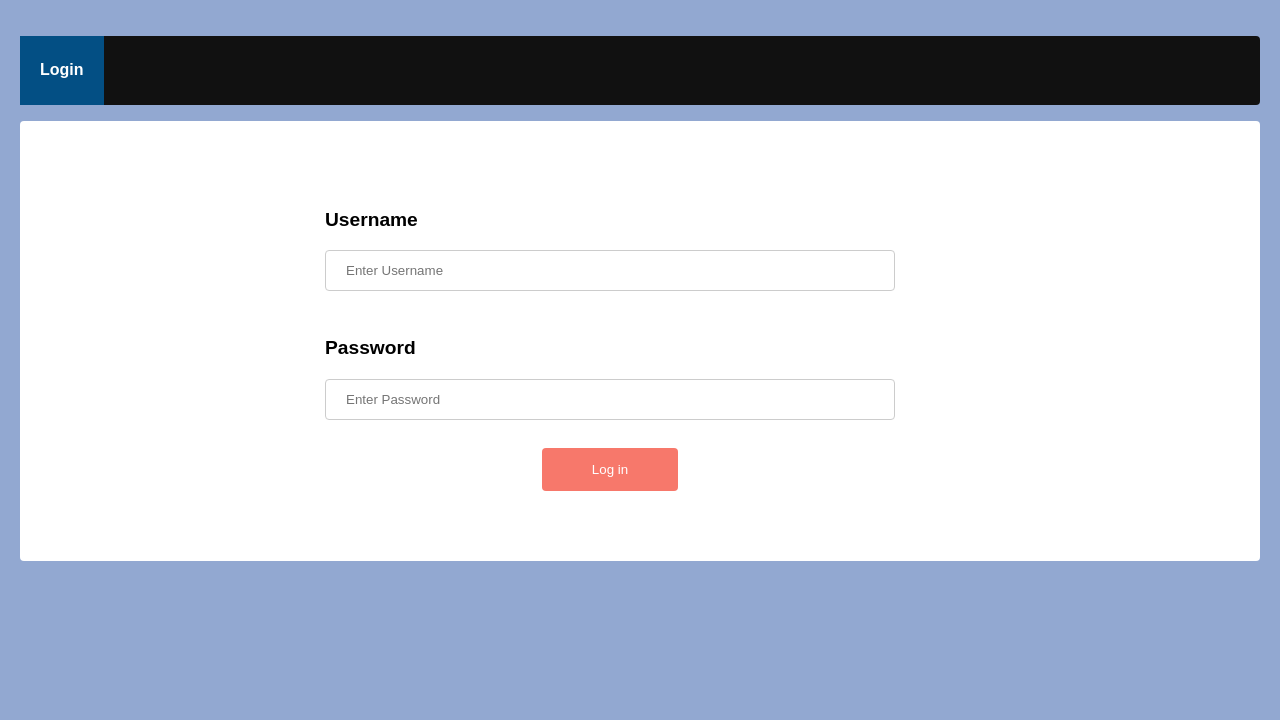
Test: Kepler Colony Tests › can go to Pioneer page
In the field with test id "username": (610, 271) [325, 250, 895, 291], type "username"
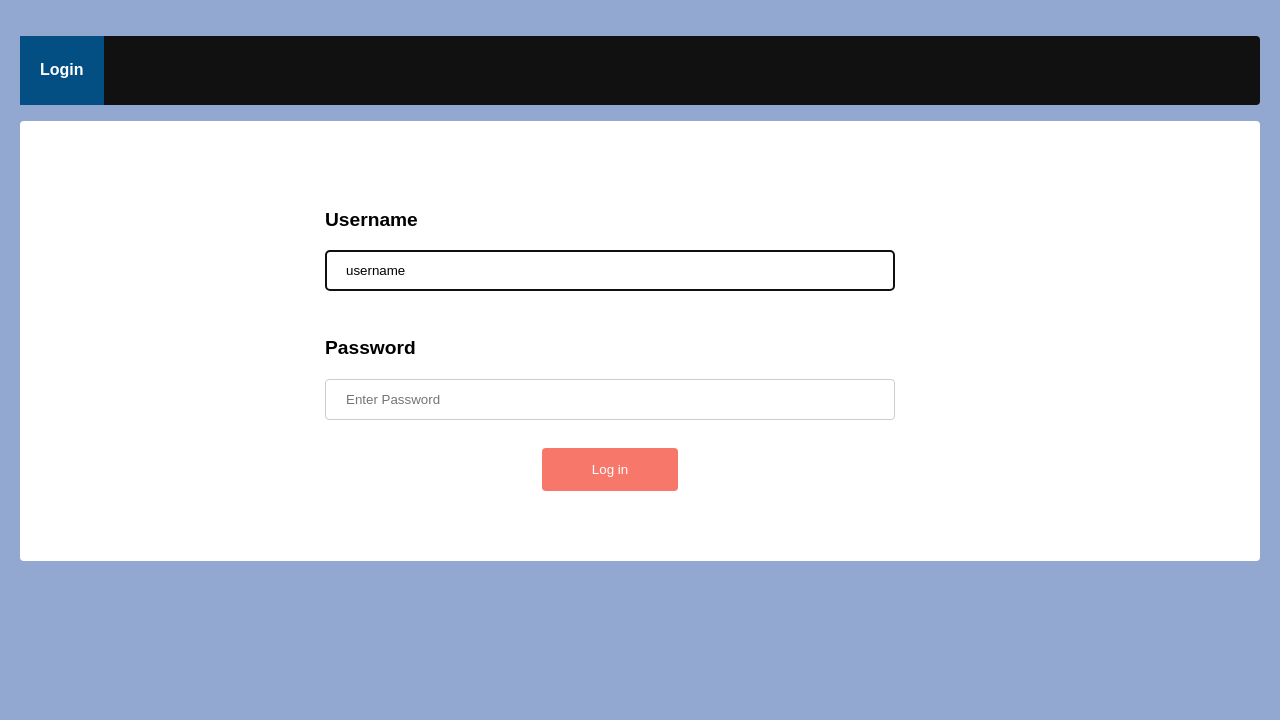
In the password field with test id "password": (610, 400) [325, 379, 895, 420], type "password"
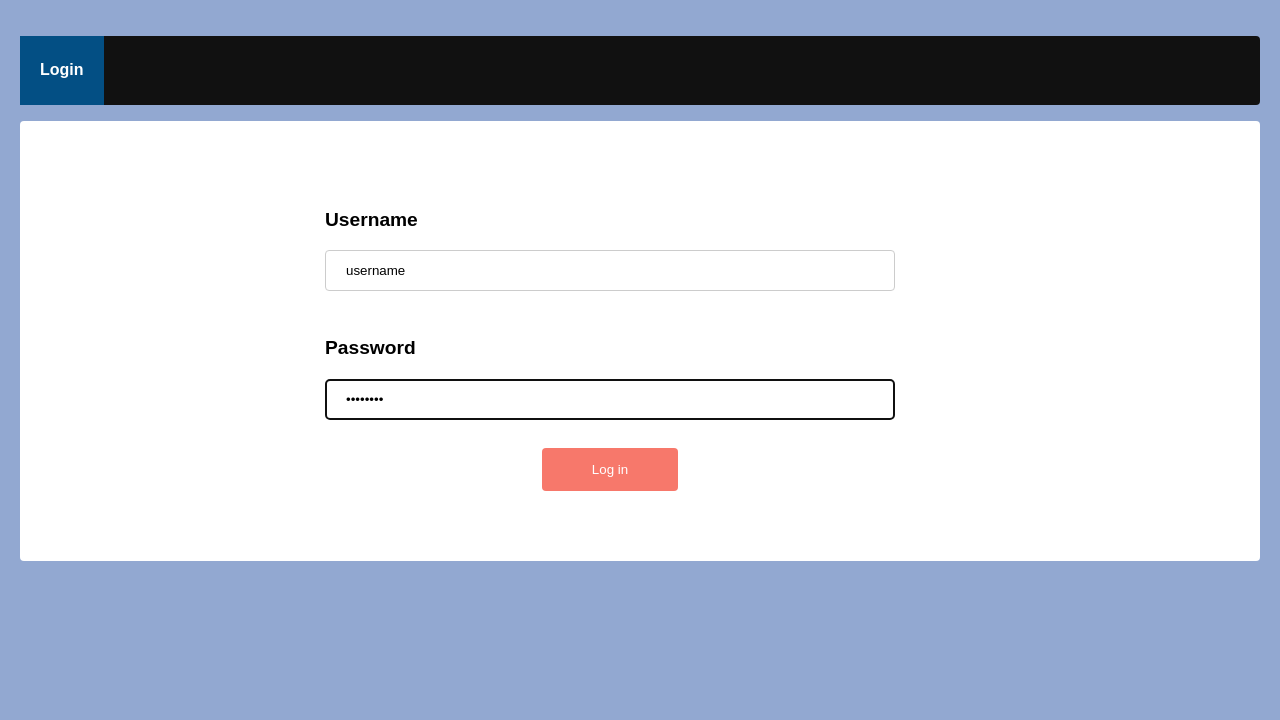
Click the button with class "login-button": (610, 470) [542, 448, 678, 491]
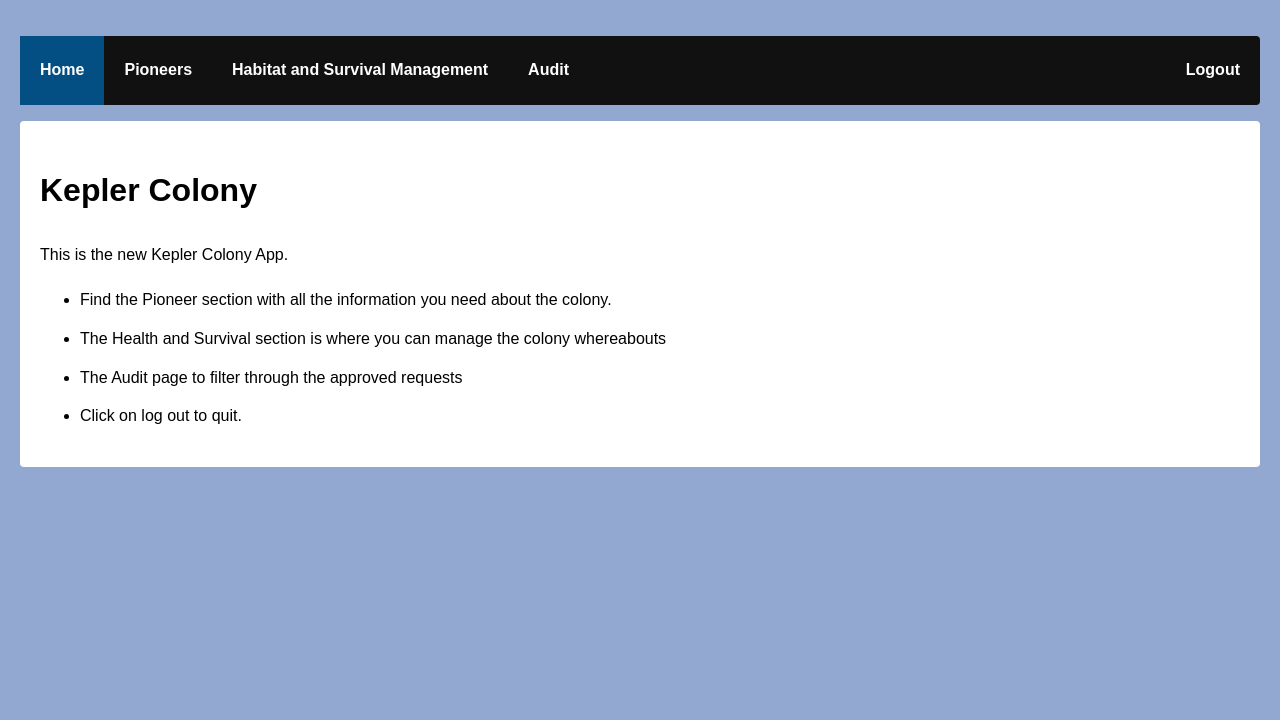
Click the link with aria-label "Pioneers": (159, 70) [125, 61, 193, 78]
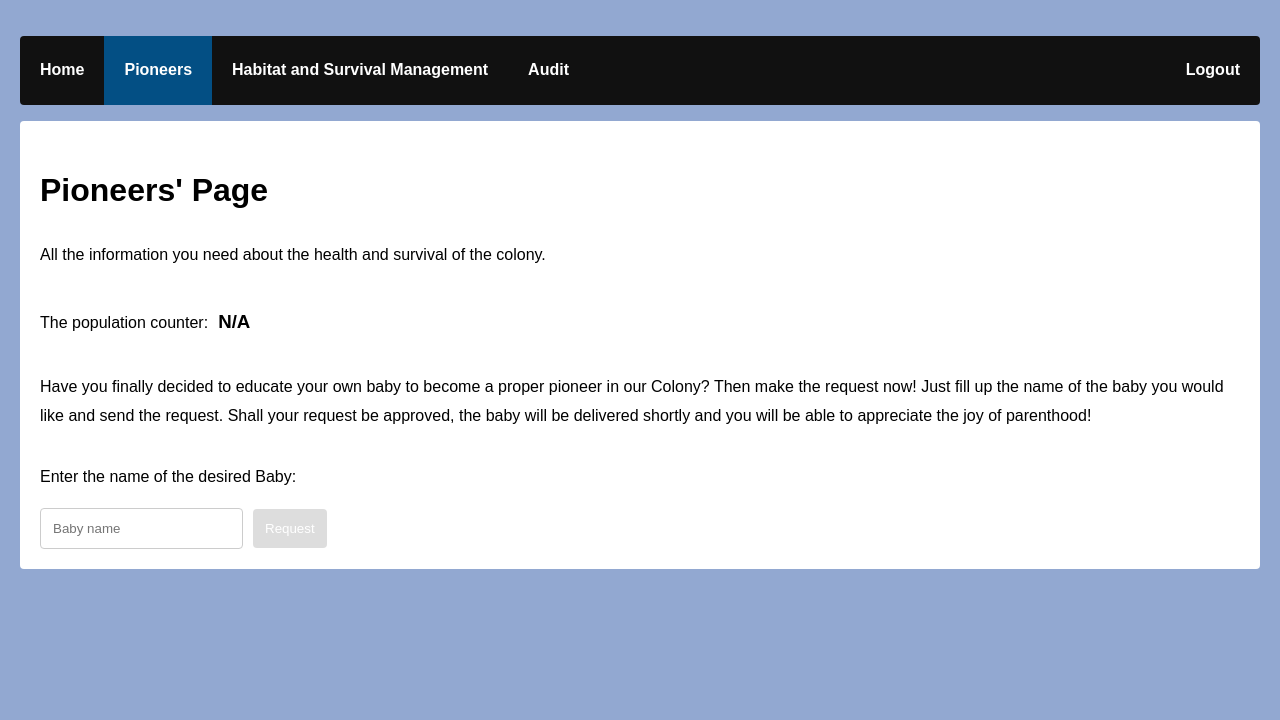
Expected: the heading "Pioneers' Page" is shown, [40, 172, 268, 208]
